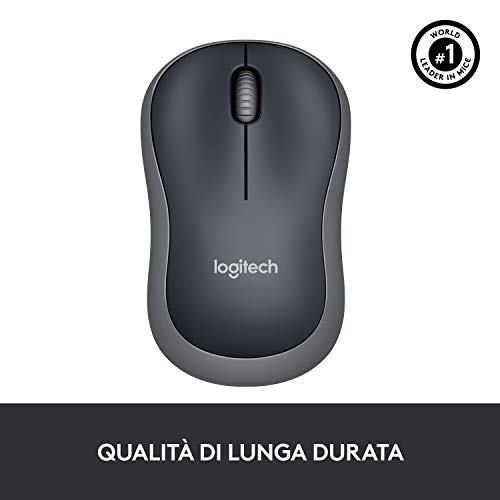logitech-mouse-m185: (133, 39, 367, 391)
